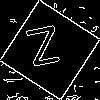Z: (25, 25, 65, 76)
